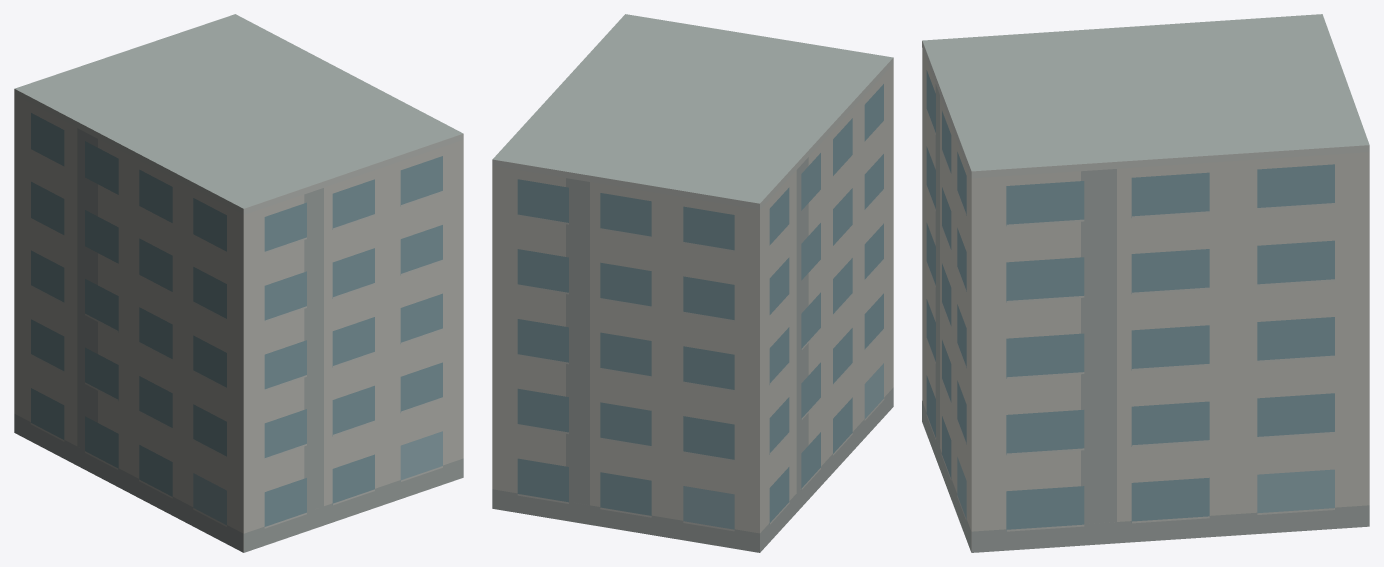
The model's file is survey-upis-32523908.glb.
3 views of the same model, side by side, from view 1: azimuth 30°, elevation 25°; view 2: azimuth 150°, elevation 25°; view 3: azimuth 270°, elevation 25° (orthographic). The views are drawn at different scales.
Visible parts, largest first — view 1: survey-upis-32523908.tmp; view 2: survey-upis-32523908.tmp; view 3: survey-upis-32523908.tmp.
Part boxes in pixels (x1,y1,x2,y2): survey-upis-32523908.tmp: (14,14,463,552); survey-upis-32523908.tmp: (492,14,893,552); survey-upis-32523908.tmp: (922,14,1369,552).
Size of the model in its own units: 11.69 by 13.2 by 14.04.
